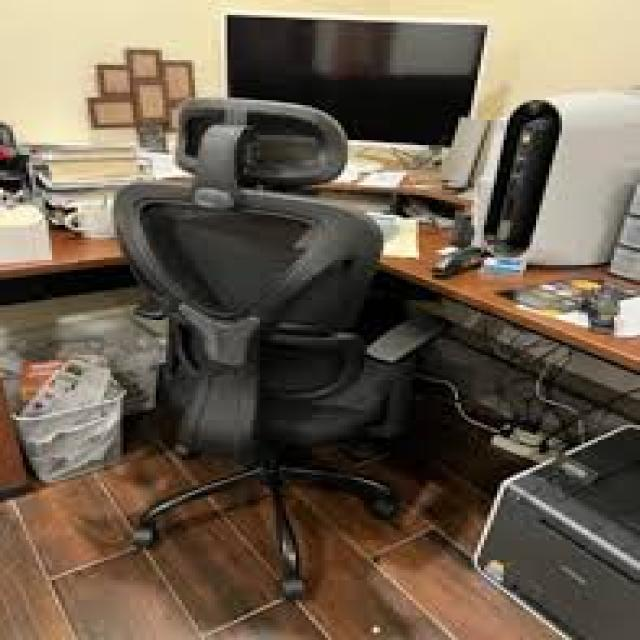chair: (26, 82, 462, 626)
